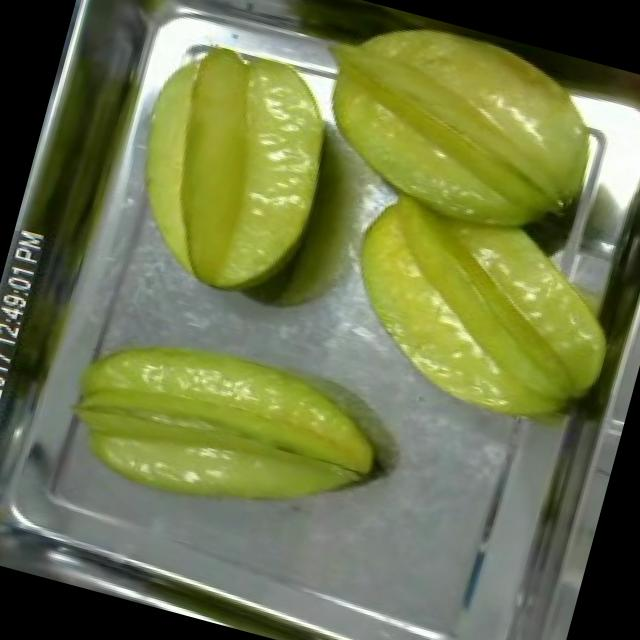fruit: (41, 299, 413, 556), (312, 167, 640, 454), (289, 0, 633, 273), (92, 16, 361, 323)
